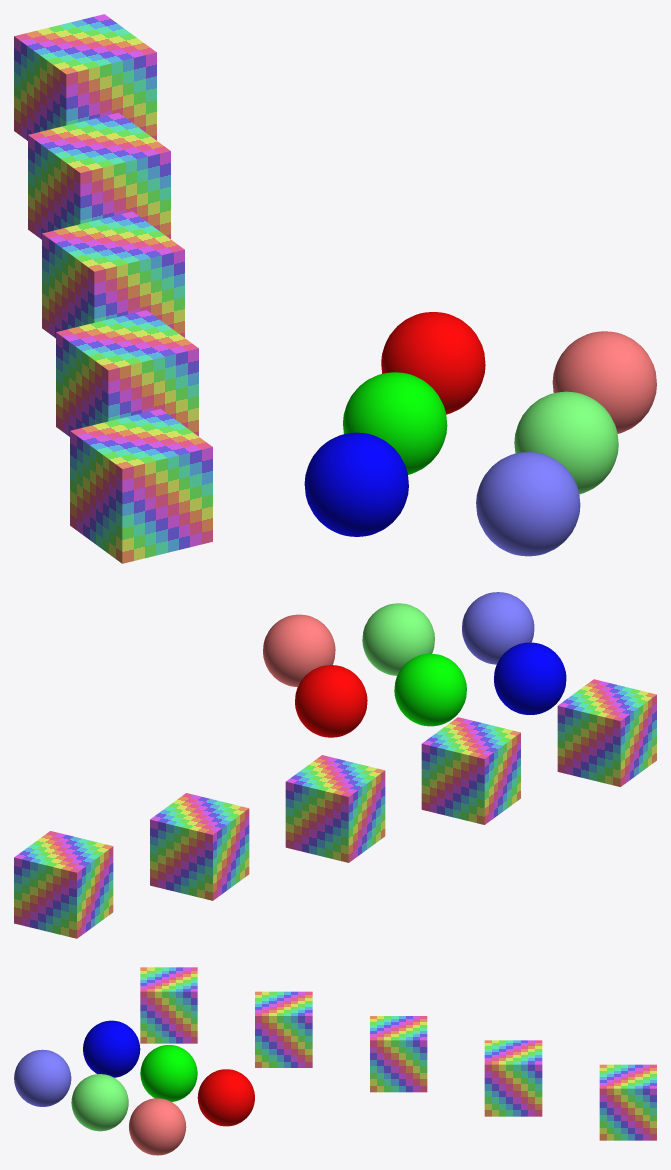
File: TonemappingTest.gltf
The picture shows the model from 3 angles, top to bottom: view 1: azimuth 30°, elevation 25°; view 2: azimuth 150°, elevation 25°; view 3: azimuth 270°, elevation 25°; orthographic projection. The views are drawn at different scales.
Visible parts, largest first — view 1: Cube, Sphere; view 2: Cube, Sphere; view 3: Cube, Sphere.
Boxes of the visible parts, box(x1,y1,x2,y2) form: Cube: box(14, 14, 212, 563); Sphere: box(304, 312, 656, 556); Cube: box(14, 679, 656, 938); Sphere: box(263, 592, 566, 737); Cube: box(140, 967, 656, 1140); Sphere: box(14, 1020, 254, 1155).
Size of what is drawn, in the model's own units: 1.5 by 0.25 by 2.8.
Materials: 7 (1 with a texture image).
